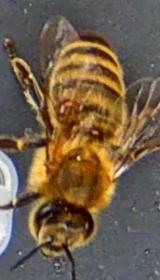varroa_mite: (50, 93, 80, 123)
